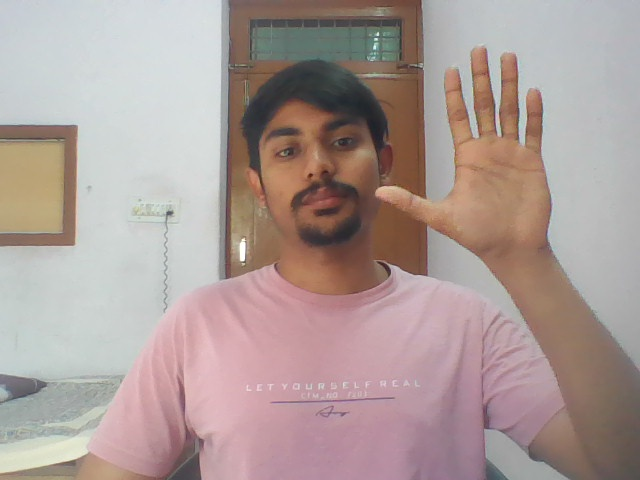Hello: (372, 33, 558, 264)
